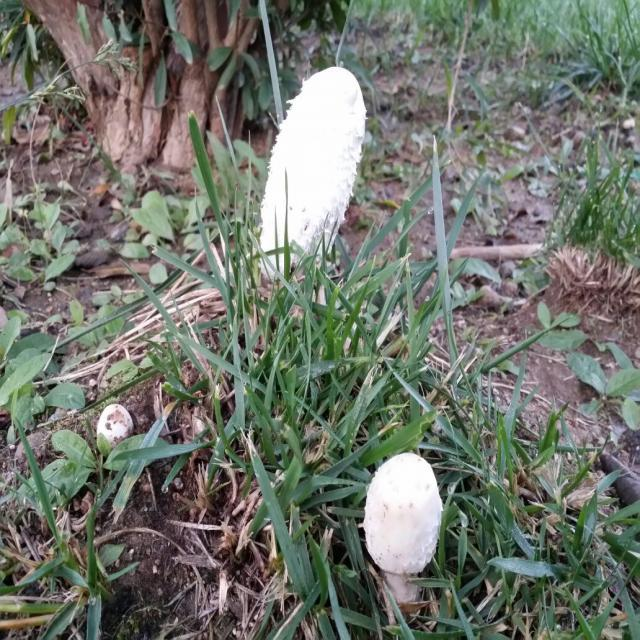Coprinus comatus: (261, 66, 367, 287), (364, 451, 441, 600)
